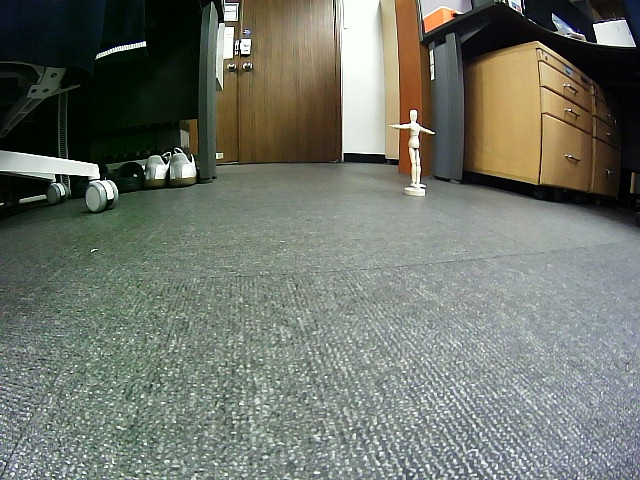person: (390, 110, 436, 188)
